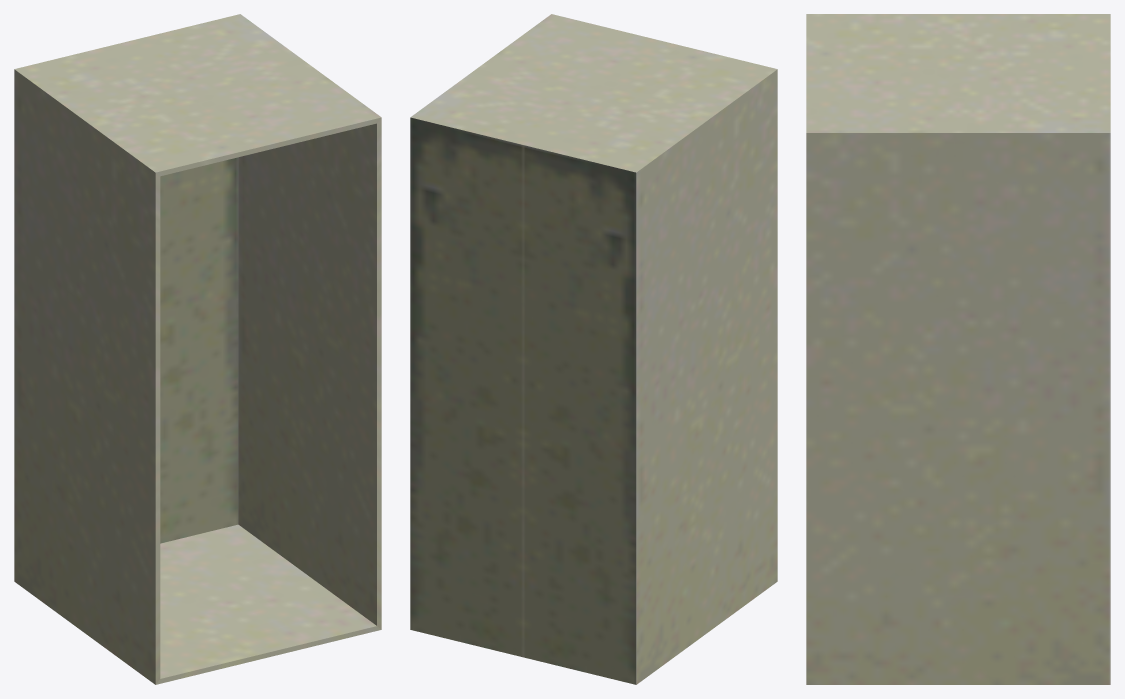
File: file_cabinet_smaller_open.obj
3 renders of one model, left to right at view 1: azimuth 30°, elevation 25°; view 2: azimuth 150°, elevation 25°; view 3: azimuth 270°, elevation 25°, orthographic. The views are drawn at different scales.
Parts seen in each view (by area): view 1: file_cabinet_smaller_open; view 2: file_cabinet_smaller_open; view 3: file_cabinet_smaller_open.
Boxes of the visible parts, <box> form: file_cabinet_smaller_open: <box>14,14,381,684</box>; file_cabinet_smaller_open: <box>410,14,777,684</box>; file_cabinet_smaller_open: <box>806,14,1110,684</box>.
Size of the model in its own units: 0.4847 by 1.05 by 0.5246.
